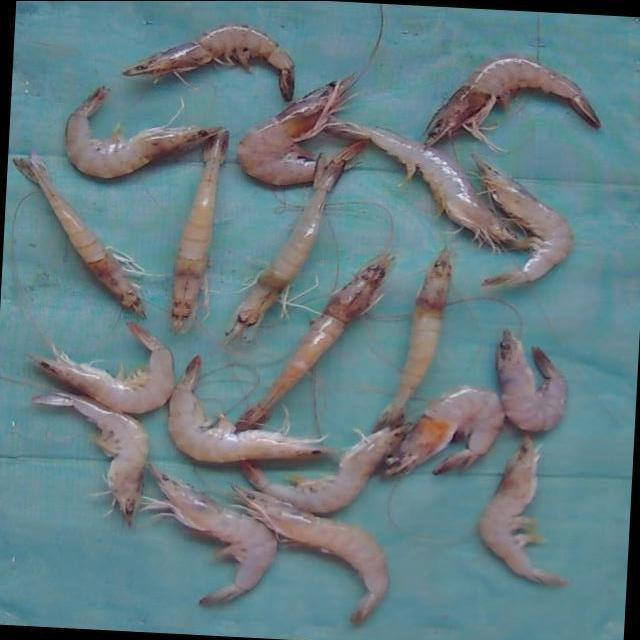shrimp: (226, 139, 366, 344), (237, 251, 393, 430), (325, 116, 534, 248), (13, 151, 143, 315), (234, 487, 389, 624), (142, 465, 278, 605), (168, 355, 329, 462), (427, 54, 601, 147), (32, 391, 148, 525), (65, 84, 223, 176), (240, 426, 407, 512), (377, 248, 452, 430), (30, 320, 174, 413), (480, 435, 569, 585), (473, 153, 574, 284), (122, 24, 294, 99), (238, 74, 355, 183), (171, 129, 228, 331), (383, 385, 505, 476), (497, 329, 568, 431)
